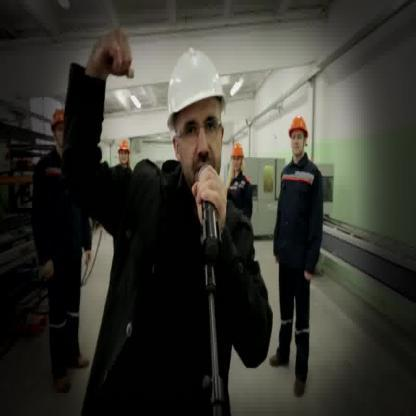helmet: (167, 47, 227, 141), (287, 116, 309, 139), (51, 108, 64, 126), (230, 143, 244, 159), (118, 138, 130, 154)
vest: (30, 149, 92, 372), (272, 154, 324, 376), (223, 168, 257, 218)
